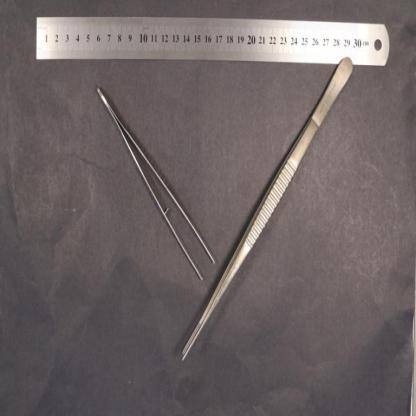DeBakey Dissector: (182, 56, 353, 363)
Gillies Toothed Dissector: (95, 84, 216, 284)
